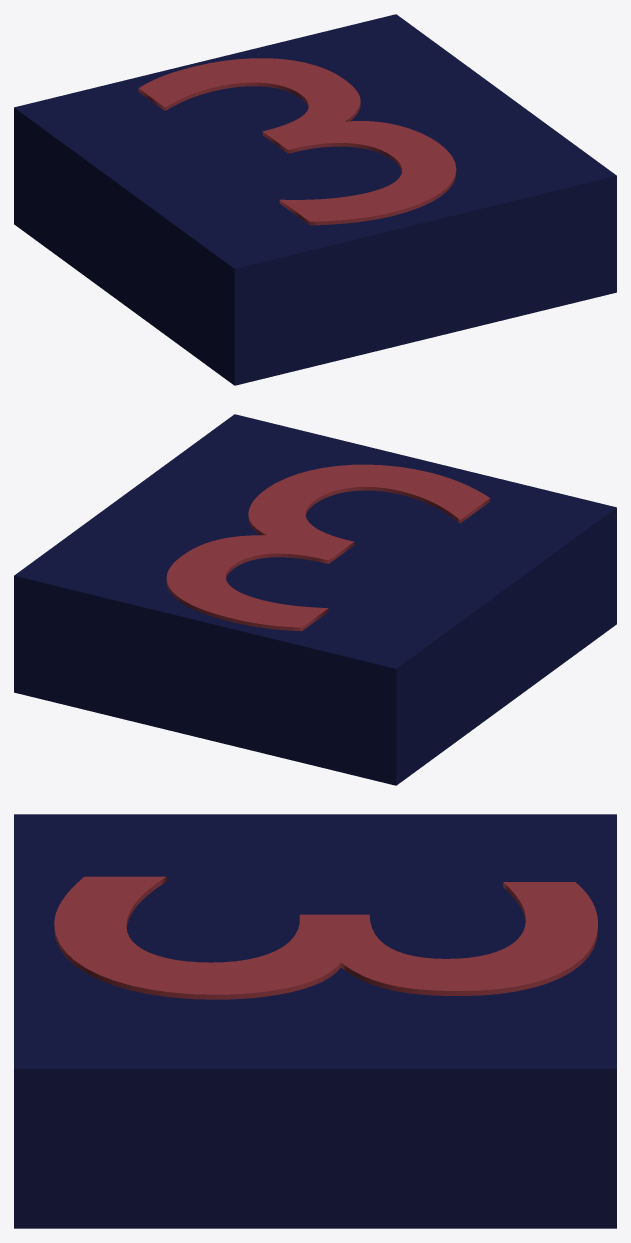
Rendered from three-pad.fbx.
3 views of the same model, one above another, from view 1: azimuth 30°, elevation 25°; view 2: azimuth 150°, elevation 25°; view 3: azimuth 270°, elevation 25° (orthographic). The views are drawn at different scales.
Parts seen in each view (by area): view 1: Cube, Text; view 2: Cube, Text; view 3: Cube, Text.
Part boxes in pixels (x1,y1,x2,y2): Cube: (14,14,616,385); Text: (138,58,456,225); Cube: (14,414,616,785); Text: (166,464,490,631); Cube: (14,814,616,1228); Text: (54,876,597,999).
Bounding box in the file's own units: 200 × 60.26 × 200.
